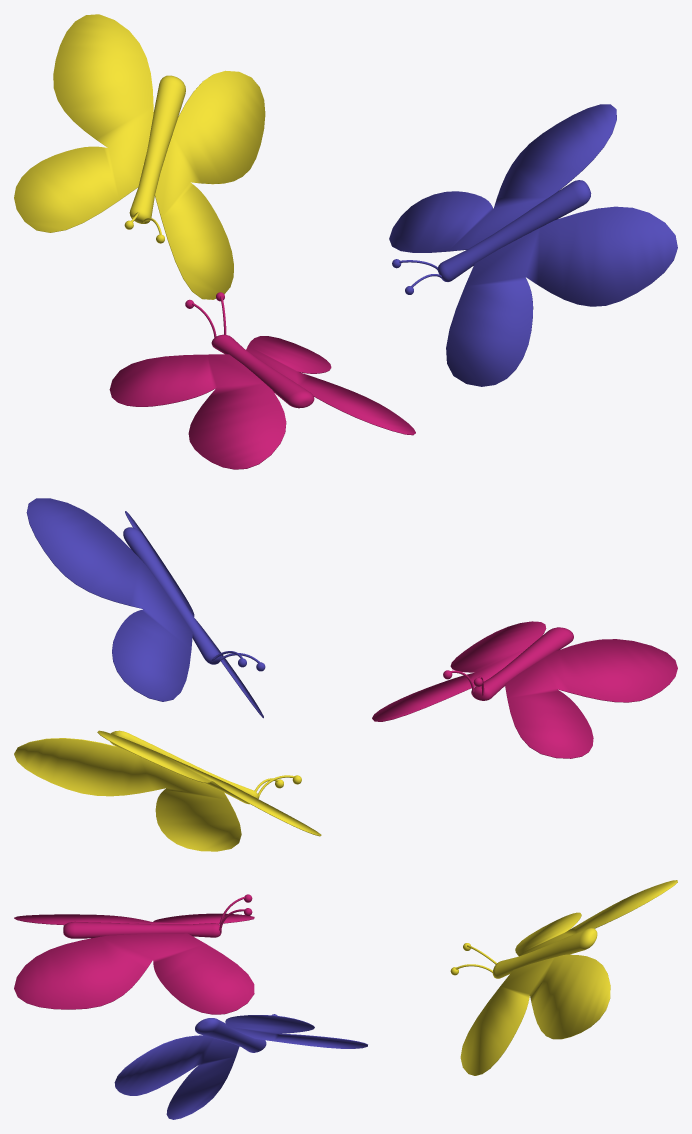
The model's file is butterfly.obj.
The picture shows the model from 3 angles, top to bottom: view 1: azimuth 30°, elevation 25°; view 2: azimuth 150°, elevation 25°; view 3: azimuth 270°, elevation 25°; orthographic projection. The views are drawn at different scales.
Parts seen in each view (by area): view 1: Line003, Line006, Line005, Line004, Line01, Line02, ChamferCyl002, ChamferCyl003, ChamferCyl01; view 2: Line004, Line01, Line005, Line02, Line006, ChamferCyl002, ChamferCyl01, ChamferCyl003, Line003; view 3: Line02, Line005, Line003, Line006, Line004, ChamferCyl01, Line01, ChamferCyl003, ChamferCyl002.
Part boxes in pixels (x1,y1,x2,y2): Line003: (446,206,677,386); Line006: (14,14,153,232); Line005: (155,70,265,299); Line004: (389,104,616,252); Line01: (109,354,286,469); Line02: (246,336,415,435); ChamferCyl002: (437,180,591,281); ChamferCyl003: (129,75,185,223); ChamferCyl01: (211,334,314,408); Line004: (26,498,192,701); Line01: (505,639,677,758); Line005: (14,738,241,851); Line02: (372,621,546,721); Line006: (97,730,321,836); ChamferCyl002: (123,527,221,664); ChamferCyl01: (471,627,573,700); ChamferCyl003: (110,730,258,804); Line003: (125,511,263,718); Line02: (14,933,254,1014); Line005: (460,954,610,1075); Line003: (114,1035,239,1119); Line006: (515,880,677,956); Line004: (225,1015,367,1048); ChamferCyl01: (63,921,221,938); Line01: (14,913,254,925); ChamferCyl003: (492,928,597,978); ChamferCyl002: (195,1018,266,1052).
Bounding box in the file's own units: 390 × 143 × 469.
